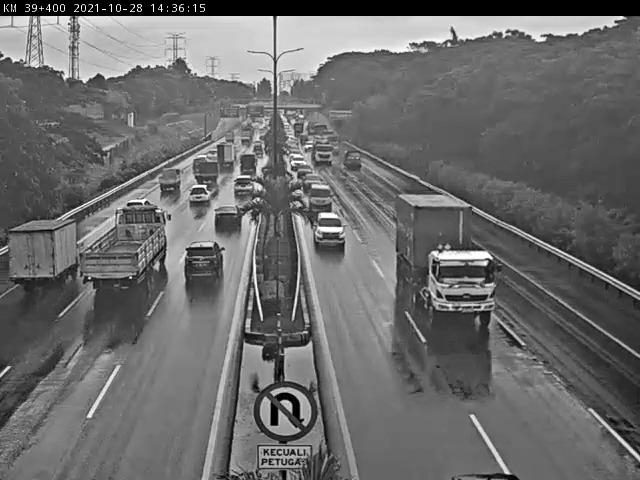big truck: (397, 193, 500, 326), (80, 206, 170, 293)
car: (183, 240, 225, 284), (312, 207, 344, 243), (307, 181, 334, 210), (212, 203, 242, 228), (186, 184, 212, 205), (231, 173, 255, 195), (123, 198, 153, 213), (304, 172, 325, 192)
small truck: (8, 218, 80, 290), (193, 159, 220, 185), (157, 168, 183, 193)
